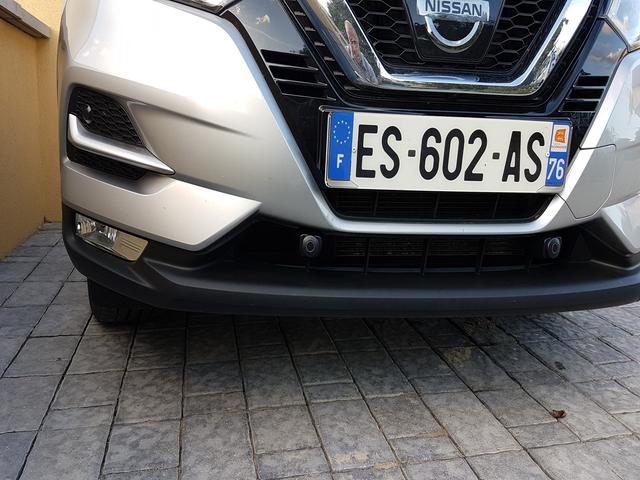Quashquai: (304, 80, 586, 211)
